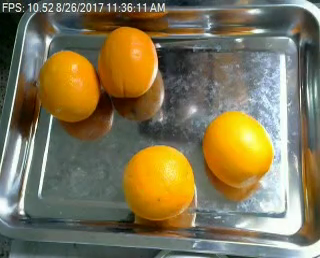Orange: (122, 144, 193, 219), (204, 110, 273, 186), (38, 48, 100, 121), (97, 26, 158, 98)
